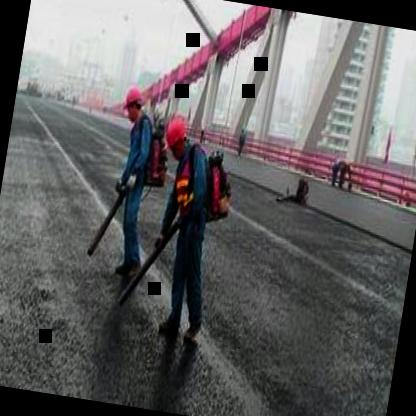helmet: (160, 112, 192, 160), (120, 80, 146, 122)
